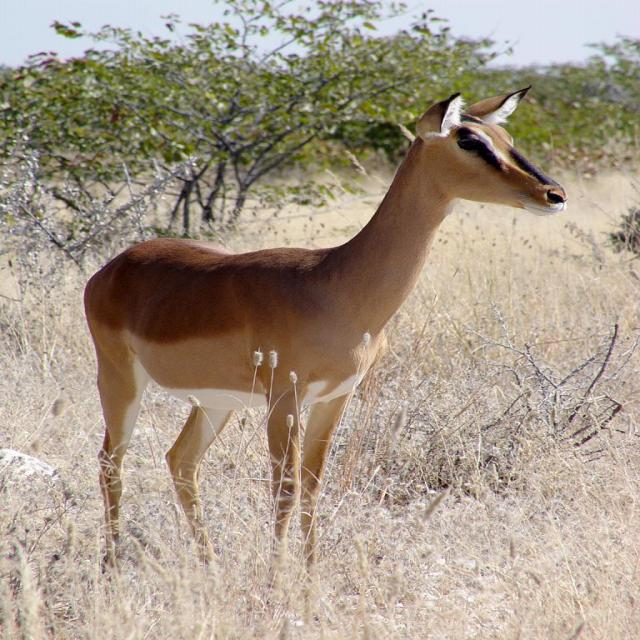Deer: (84, 85, 568, 629)
